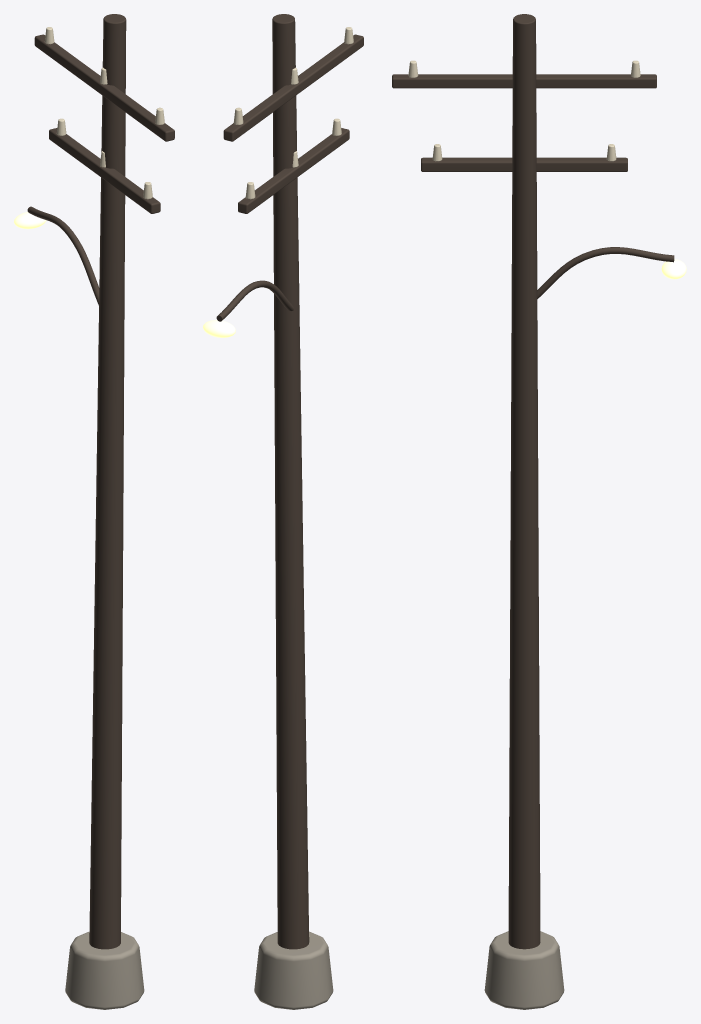
The model's file is utility_pole_lamp.glb.
3 views of the same model, side by side, from view 1: azimuth 30°, elevation 25°; view 2: azimuth 150°, elevation 25°; view 3: azimuth 270°, elevation 25° (orthographic).
Visible parts, largest first — view 1: upole, pole_footing, crossarm, crossarm.001, street_arm, street_bulb; view 2: upole, pole_footing, crossarm, crossarm.001, street_arm, street_bulb; view 3: upole, pole_footing, crossarm, crossarm.001, street_arm.
Boxes of the visible parts, <box> form: upole: <box>89,14,126,949</box>; pole_footing: <box>65,931,144,1009</box>; crossarm: <box>34,34,174,141</box>; crossarm.001: <box>49,128,160,213</box>; street_arm: <box>27,206,99,305</box>; street_bulb: <box>14,211,46,229</box>; upole: <box>272,14,309,949</box>; pole_footing: <box>254,931,333,1009</box>; crossarm: <box>223,34,363,141</box>; crossarm.001: <box>238,128,349,213</box>; street_arm: <box>216,280,293,321</box>; street_bulb: <box>203,320,235,337</box>; upole: <box>508,14,540,949</box>; pole_footing: <box>484,931,564,1009</box>; crossarm: <box>392,74,656,88</box>; crossarm.001: <box>421,157,627,171</box>; street_arm: <box>537,247,674,298</box>.
Size of the model in its own units: 0.692 by 9.4 by 2.56.
